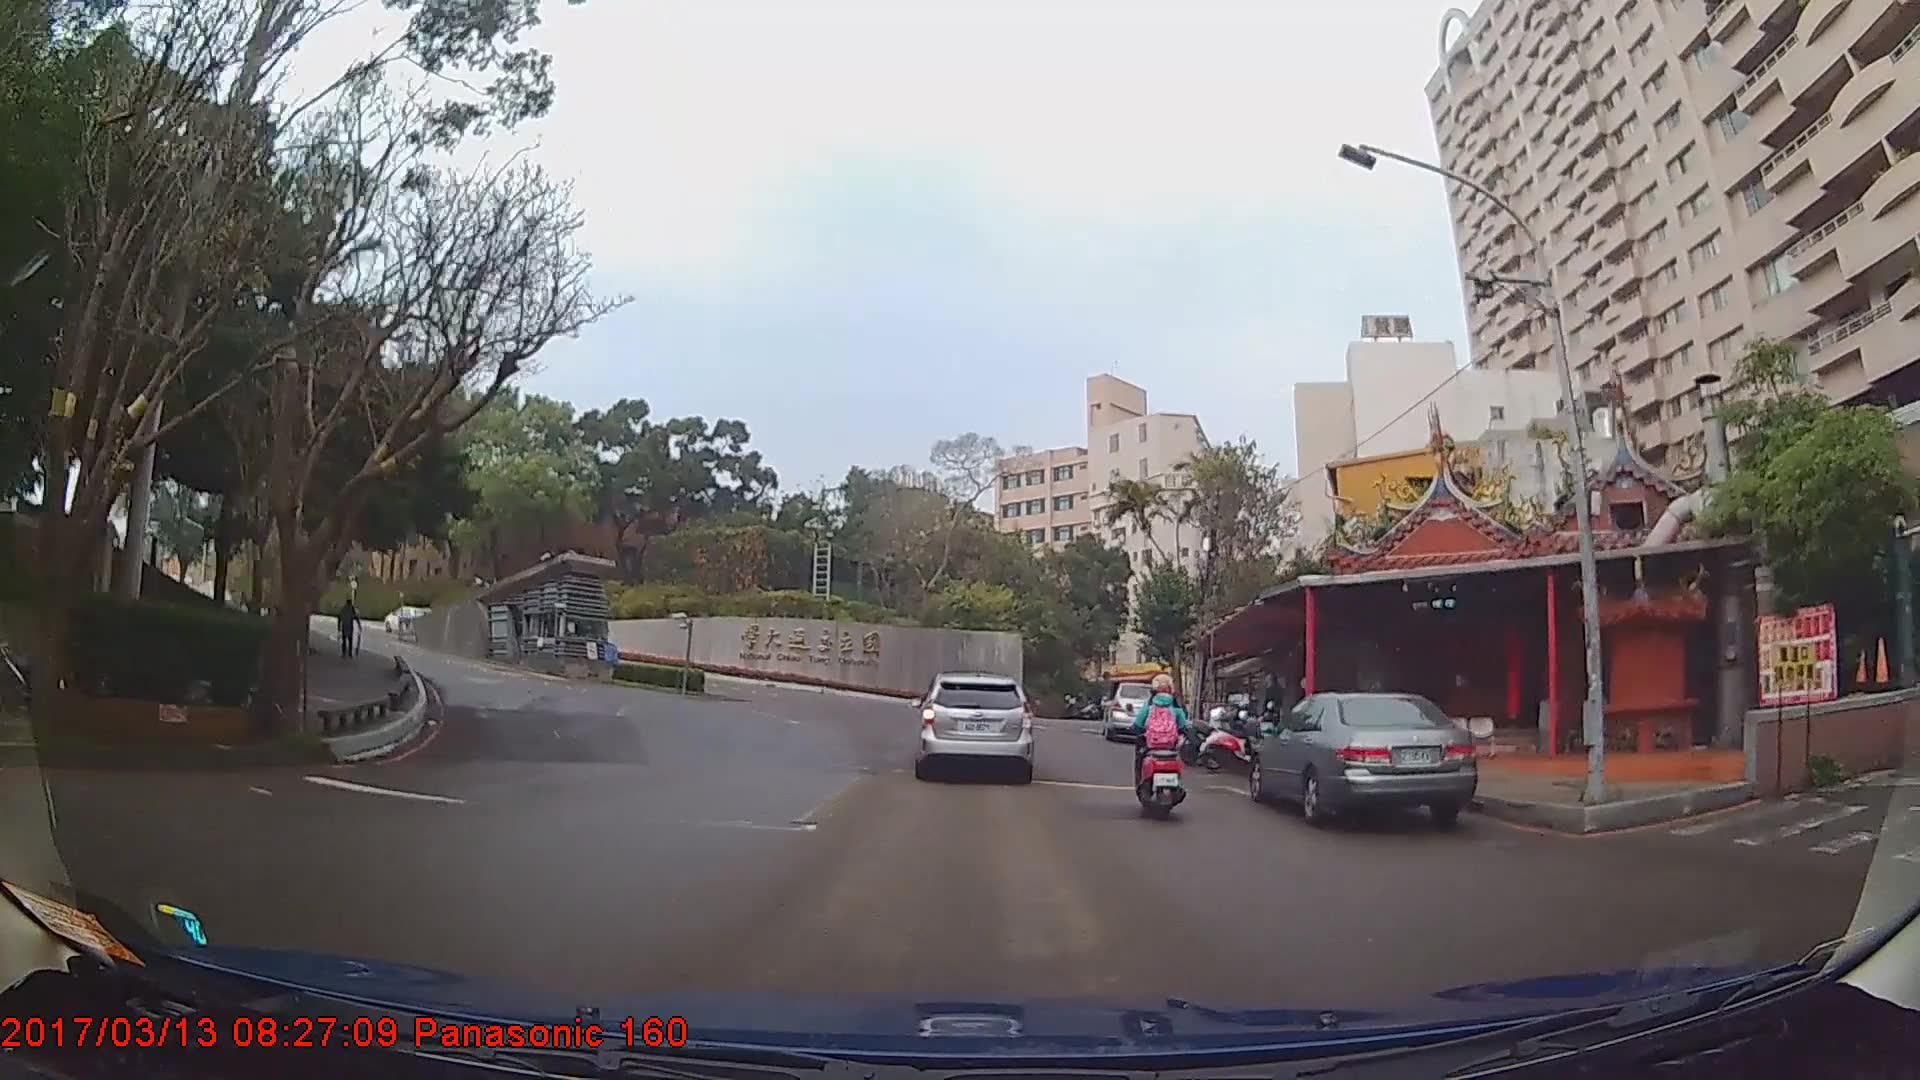pedestrian: (338, 597, 365, 658), (1261, 671, 1286, 735)
rider: (1129, 659, 1195, 813)
vehicle: (1247, 689, 1474, 824), (914, 668, 1031, 777), (1100, 679, 1165, 738)
